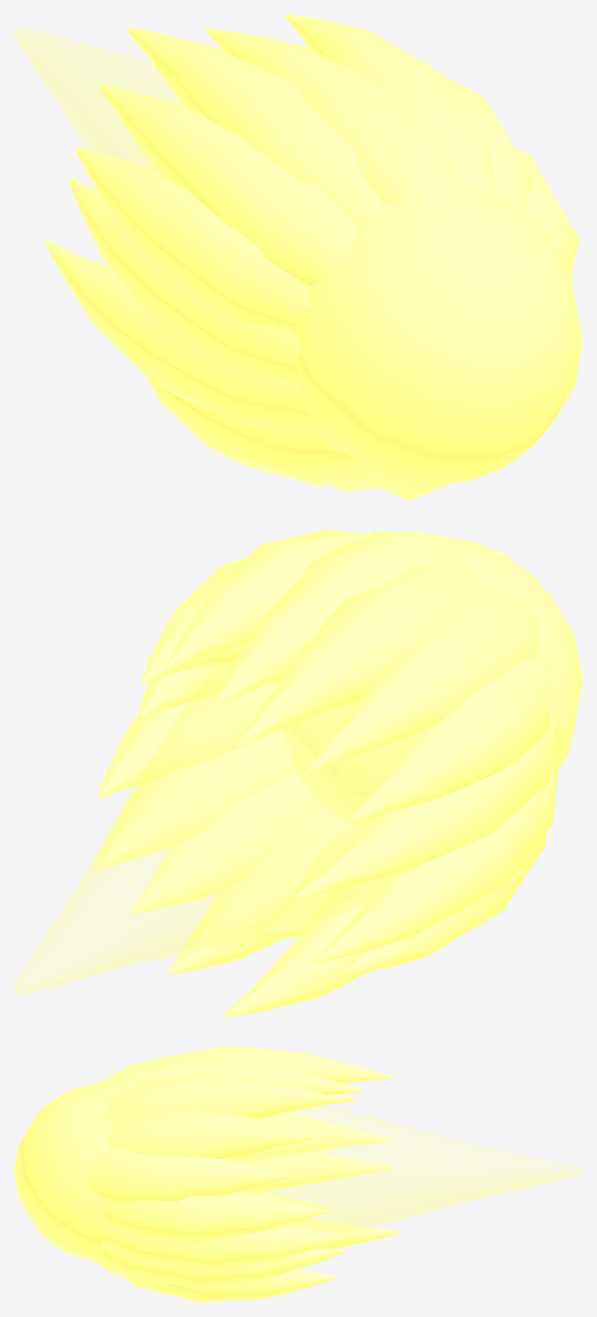
Rendered from fireball.glb.
3 views of the same model, one above another, from view 1: azimuth 30°, elevation 25°; view 2: azimuth 150°, elevation 25°; view 3: azimuth 270°, elevation 25° (orthographic). The views are drawn at different scales.
Visible parts, largest first — view 1: flames, trail; view 2: flames, trail; view 3: flames, trail.
Boxes of the visible parts, x1,y1,x2,y2 form: flames: [45, 14, 582, 501]; trail: [14, 27, 182, 168]; flames: [94, 530, 582, 1017]; trail: [14, 651, 406, 994]; flames: [14, 1046, 400, 1302]; trail: [234, 1105, 582, 1232].
Bounding box in the file's own units: 0.2525 × 0.2554 × 0.5879.
